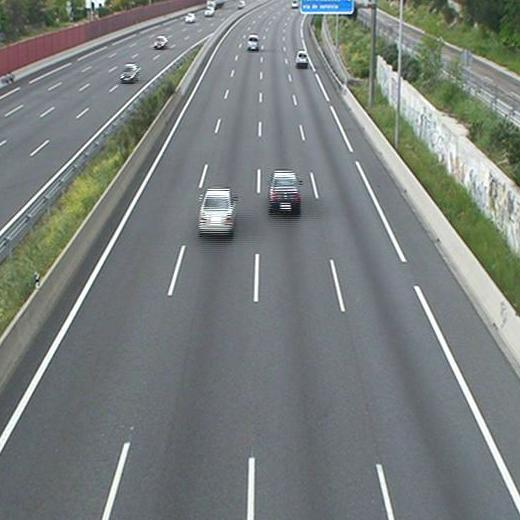car: (197, 187, 240, 236), (268, 169, 302, 217), (294, 50, 309, 68), (247, 34, 260, 52)
